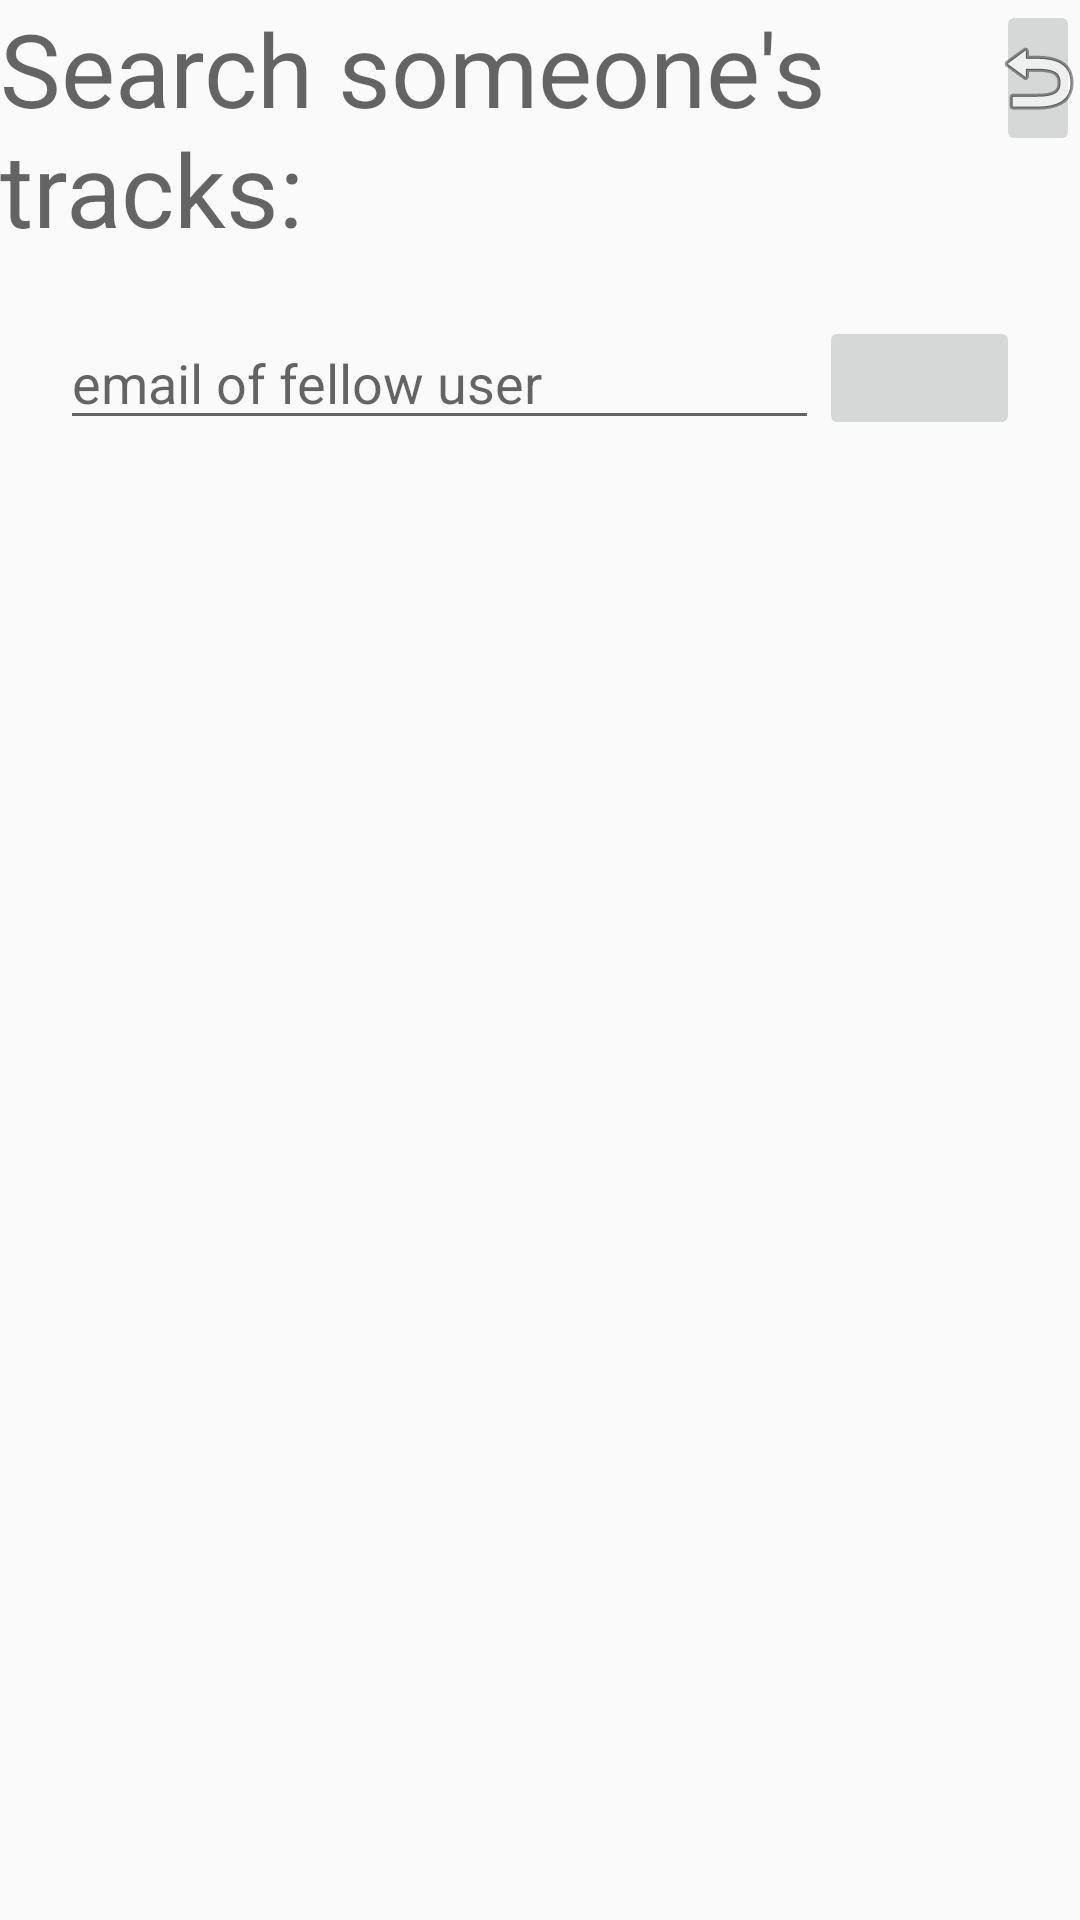

Point at icon controls on the screen. Image size 1080px×1920px, points as [x,y].
revert: [1039,78]
